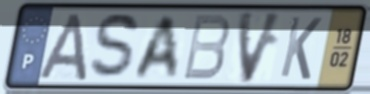A: (35, 11, 90, 82), (131, 13, 181, 81)
B: (180, 13, 232, 83)
K: (277, 14, 325, 82)
S: (86, 11, 144, 83)
V: (236, 8, 287, 87)
